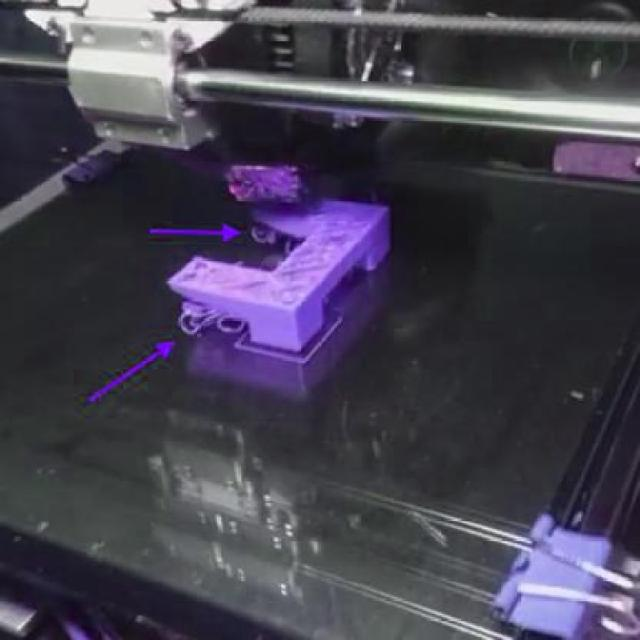Spaghetti: (175, 295, 243, 342), (251, 222, 300, 256)
